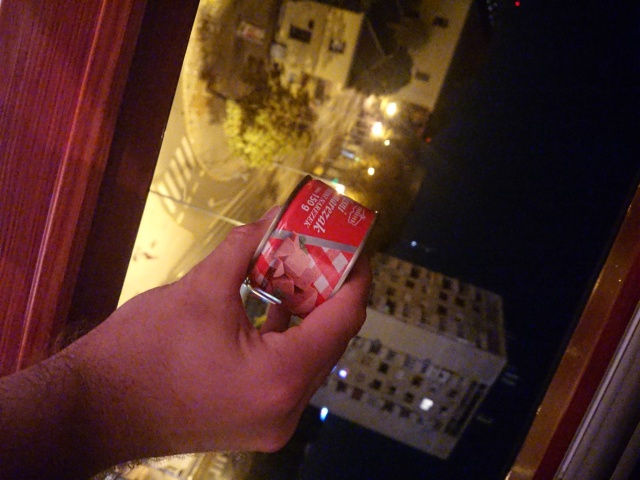Podravka Luncheon Meat 150g: (237, 173, 382, 327)
